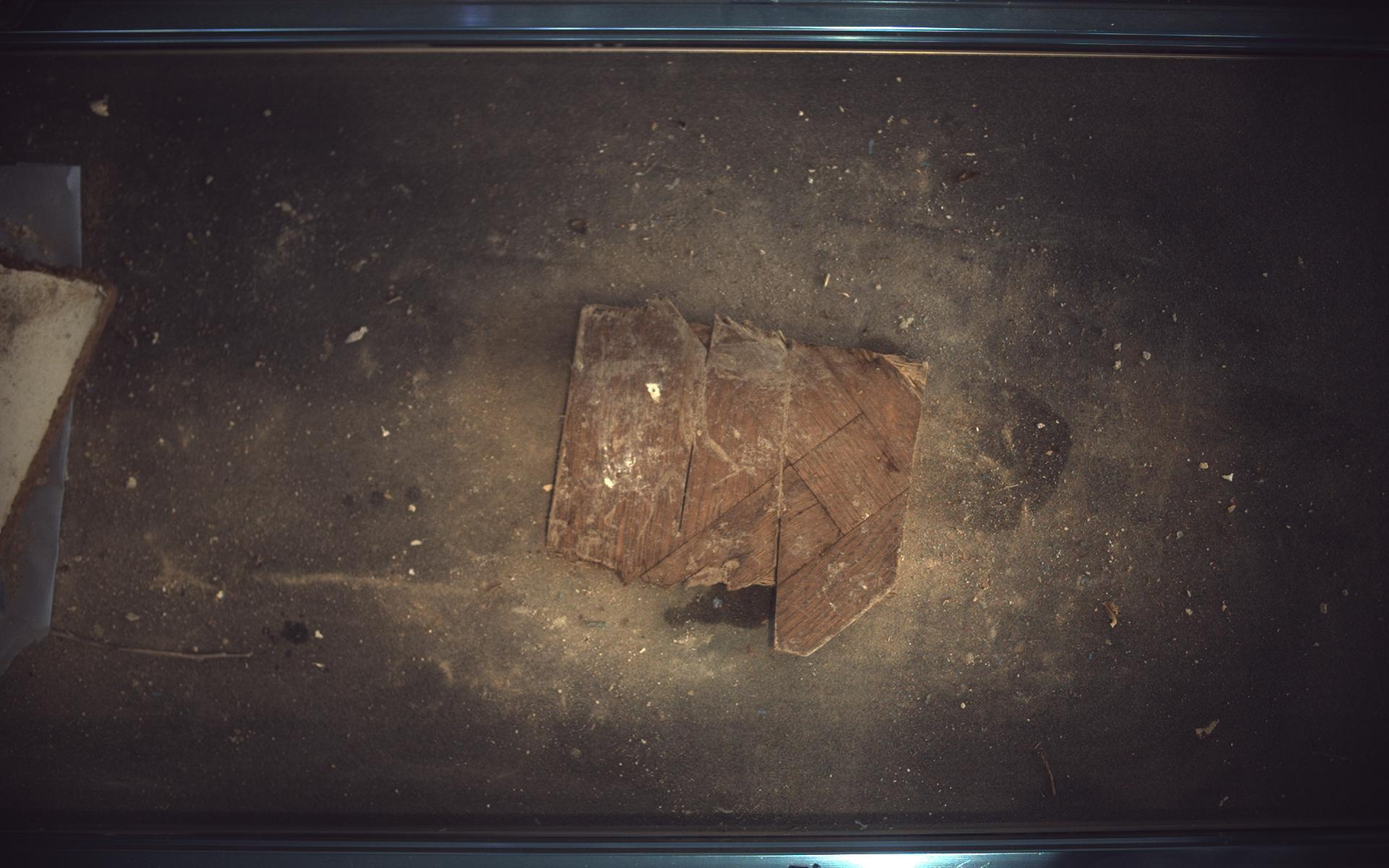wood: (549, 300, 930, 657), (1, 259, 116, 543)
